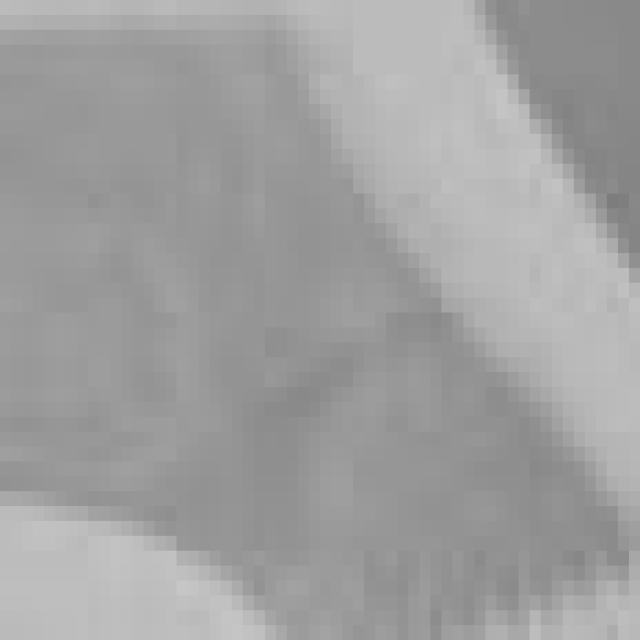fracture: (2, 0, 640, 640)
